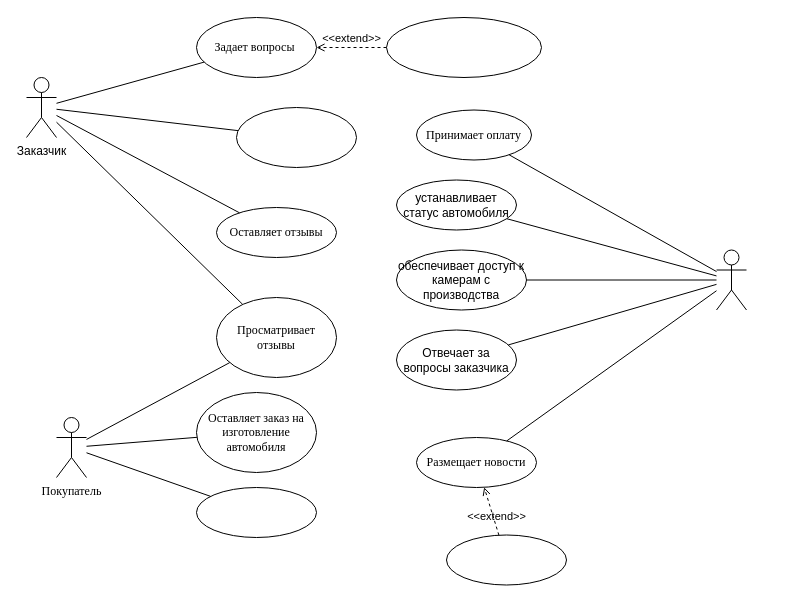
The diagram is 792 pixels wide and 603 high, and some of its shapes have lost their labels. Each missing label, with the box of its shape:
Администратор: (716, 249, 746, 310)
Оплачивает заказ: (196, 486, 316, 538)
отправляет запросы на изменение конструкции: (386, 16, 542, 78)
Просмотр статуса автомобиля: (236, 106, 356, 168)
Размещает объявления: (446, 534, 566, 585)
